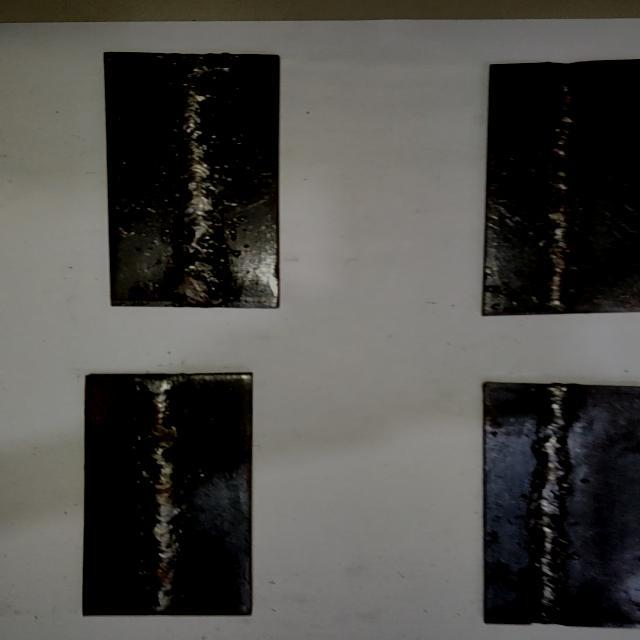Defect: (531, 389, 574, 622), (540, 64, 585, 268), (168, 55, 244, 103), (162, 228, 245, 268)
Welding Line: (177, 58, 233, 302), (136, 377, 180, 613), (547, 66, 578, 312)
Workpiece: (100, 50, 286, 311), (81, 370, 259, 618), (476, 57, 640, 317), (477, 378, 640, 628)
